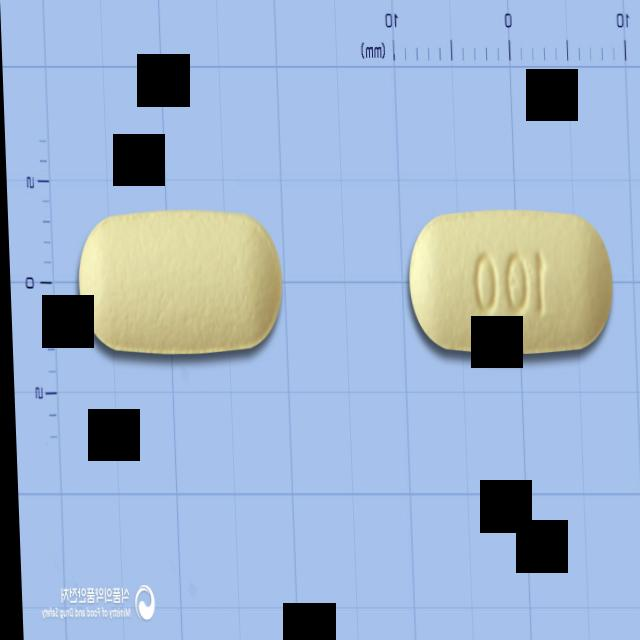Noxafil Gastro-Resistant Tab: (404, 208, 612, 357), (74, 208, 282, 354)
